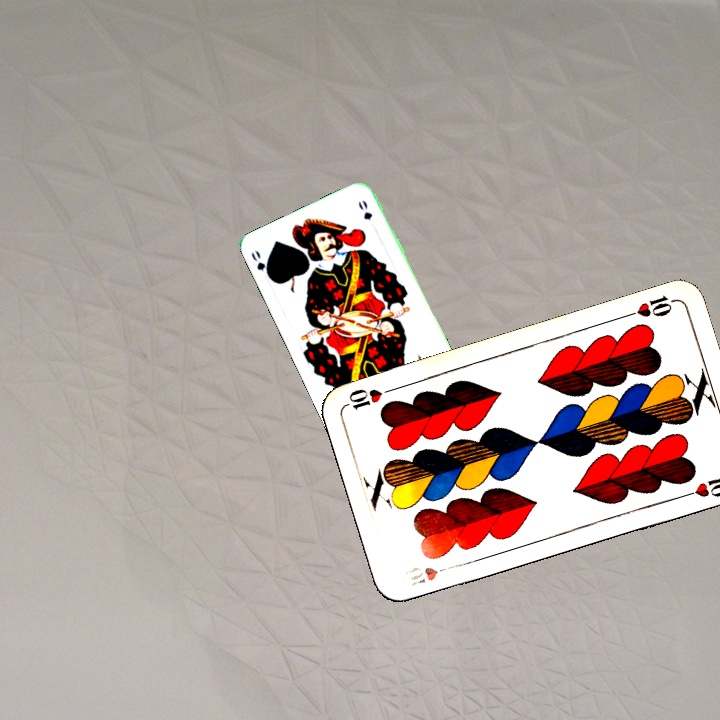GO: (247, 246, 275, 283)
H10: (620, 291, 678, 320), (400, 561, 457, 589)
